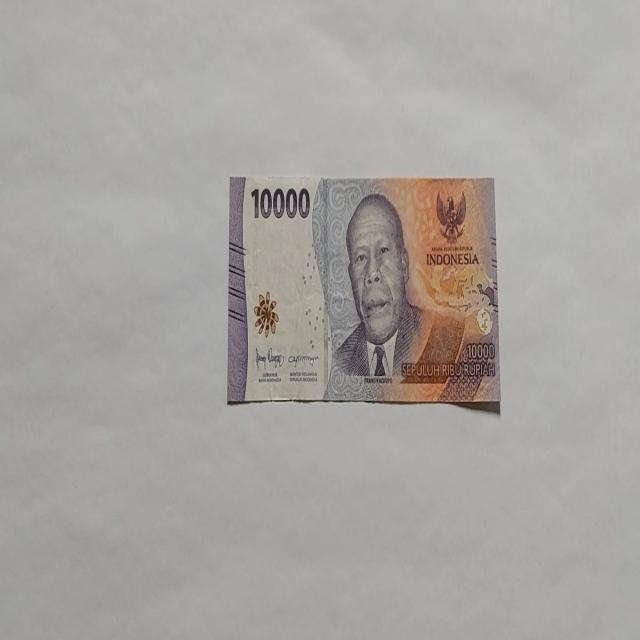sepuluh ribu rupiah: (227, 172, 500, 410), (322, 190, 434, 399)
